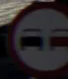No overtake: (8, 10, 66, 66)
